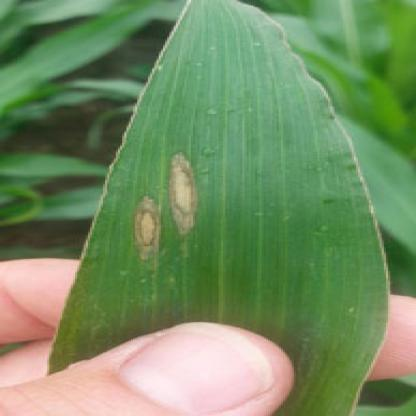corn leaf blight: (86, 5, 392, 332)
